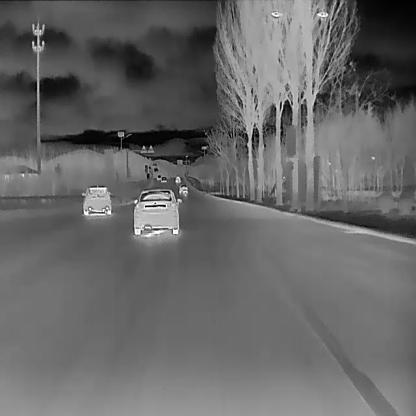car: (132, 186, 181, 235), (80, 183, 111, 214), (178, 182, 187, 193), (174, 175, 180, 184), (160, 176, 167, 182), (156, 173, 161, 180)
